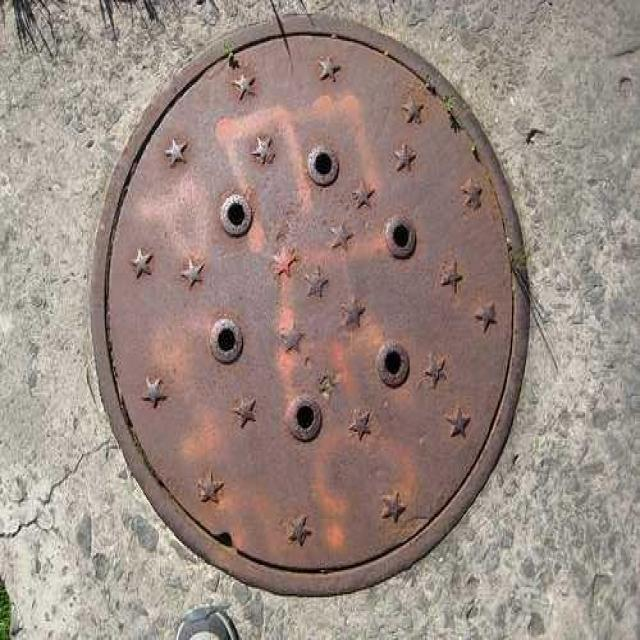manhole: (88, 14, 532, 601)
